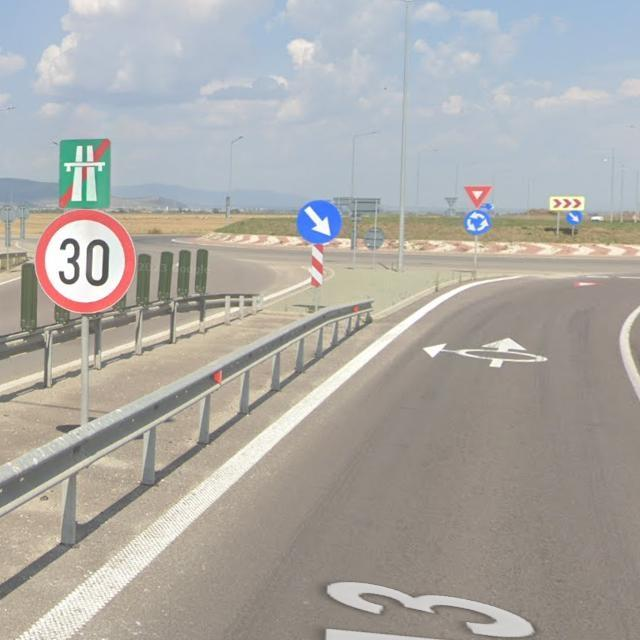forb_speed_over_30: (32, 209, 136, 313)
prio_give_way: (465, 183, 494, 208)
